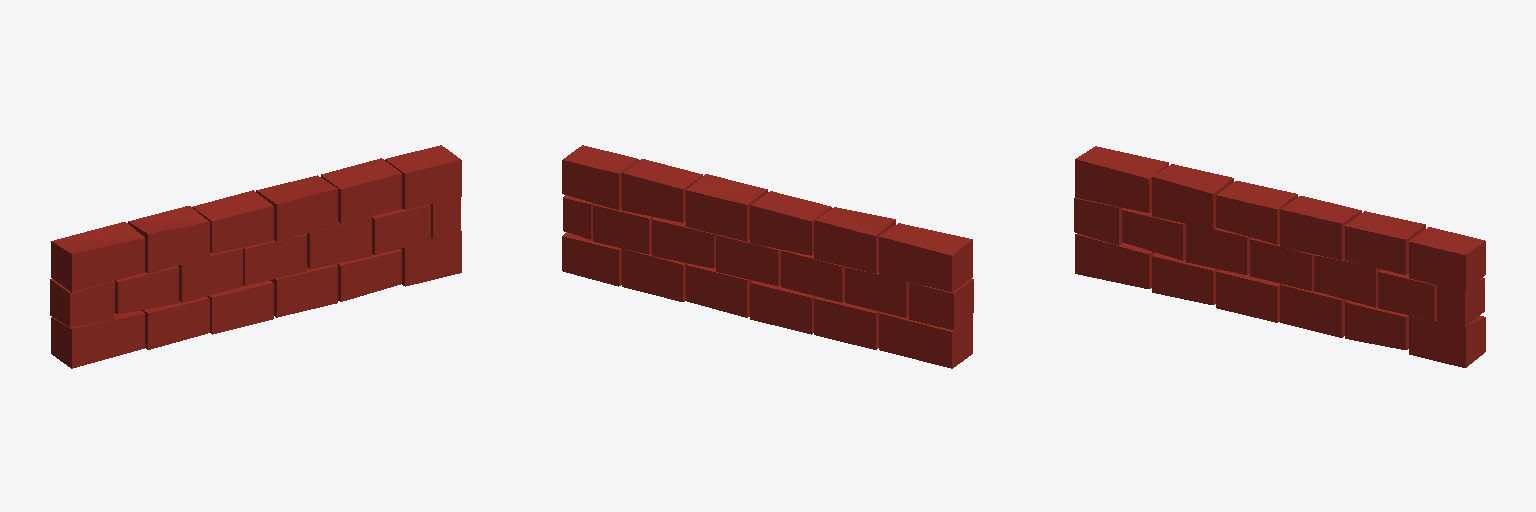
The model's file is ShortStoneWall.obj.
3 views of the same model, side by side, from view 1: azimuth 30°, elevation 25°; view 2: azimuth 150°, elevation 25°; view 3: azimuth 330°, elevation 25° (orthographic).
Visible parts, largest first — view 1: Bricks_RightStraight_Cube.066; view 2: Bricks_RightStraight_Cube.066; view 3: Bricks_RightStraight_Cube.066.
Part boxes in pixels (x1,y1,x2,y2): Bricks_RightStraight_Cube.066: (50,145,461,368); Bricks_RightStraight_Cube.066: (562,145,973,368); Bricks_RightStraight_Cube.066: (1074,146,1485,367).
Size of the model in its own units: 1.52 by 0.4318 by 0.1364.